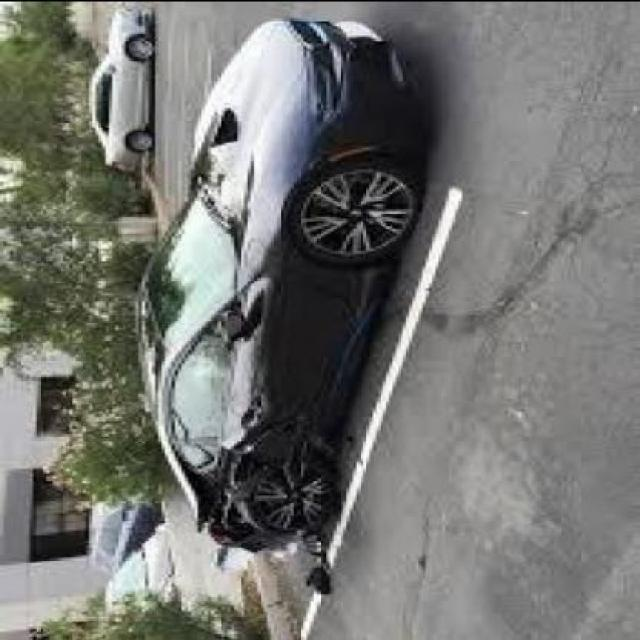damage: (168, 407, 332, 558)
